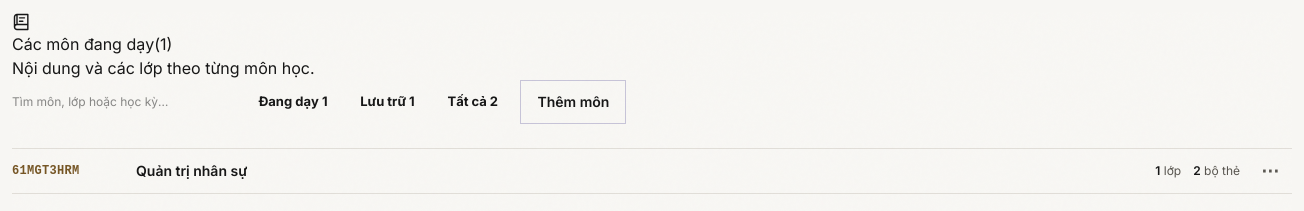
Scenario: TeachingCourseCards › defaults to active courses and can show archived ones
expect the text "61MGT3HRM" is shown: met, box [12, 164, 80, 178]
expect the text "OB101" is not shown: met
Click the button "Lưu trữ 1" at (388, 102), box [346, 82, 429, 122]
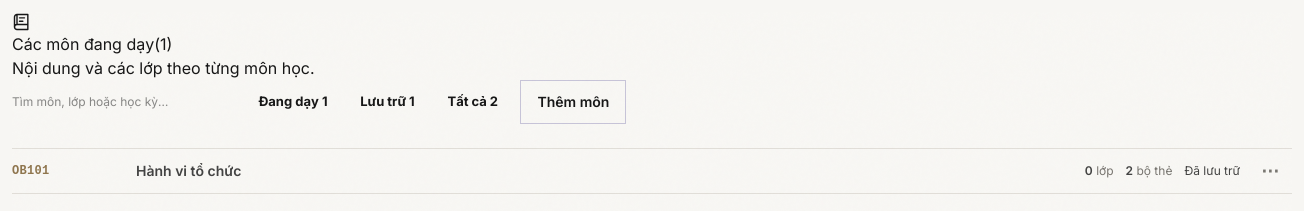
expect the text "OB101" is shown: met, box [12, 164, 50, 178]
expect the link "61MGT3HRM" is gone: met
